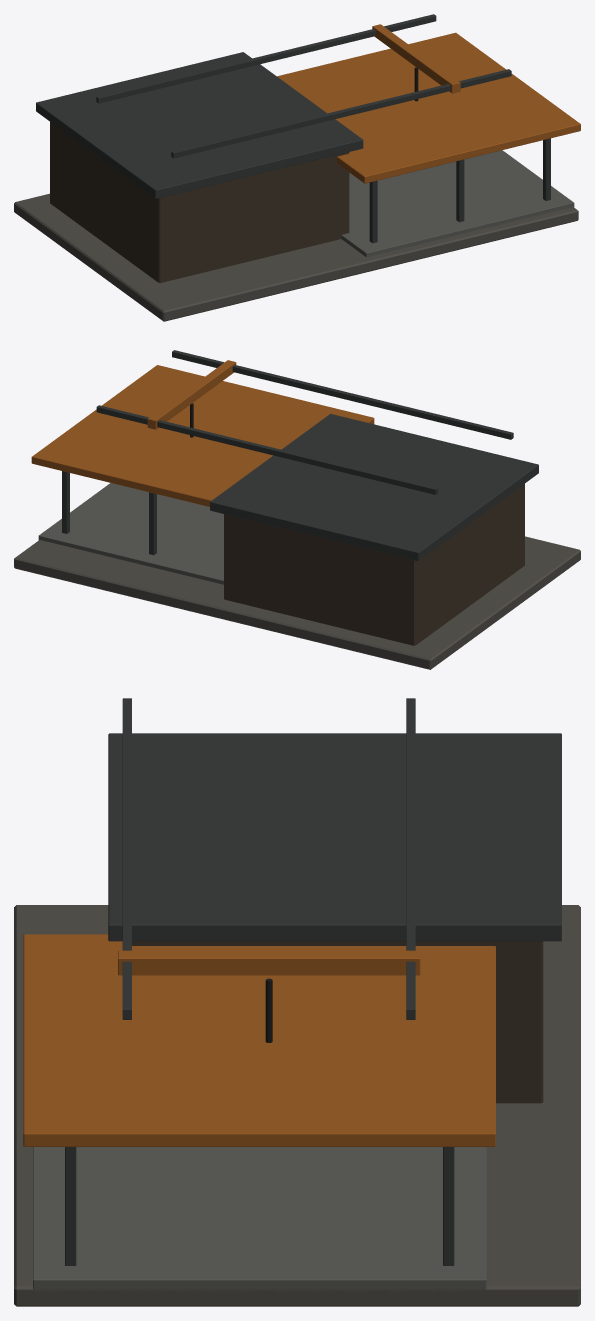
Rendered from BrassLoadingDepotV2.glb.
3 views of the same model, one above another, from view 1: azimuth 30°, elevation 25°; view 2: azimuth 150°, elevation 25°; view 3: azimuth 270°, elevation 25° (orthographic). The views are drawn at different scales.
Visible parts, largest first — view 1: BrassLoadingDepotV2; view 2: BrassLoadingDepotV2; view 3: BrassLoadingDepotV2.
Boxes of the visible parts, left/top/right/bottom form: BrassLoadingDepotV2: left=14, top=14, right=580, bottom=321; BrassLoadingDepotV2: left=14, top=350, right=580, bottom=669; BrassLoadingDepotV2: left=14, top=698, right=580, bottom=1306.
Bounding box in the file's own units: 48.5 × 15.5 × 30.
Materials: 1 (1 with a texture image).
